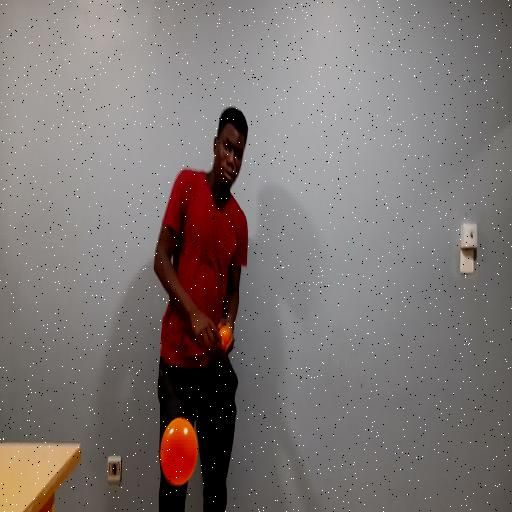plastic-ball: (152, 403, 207, 497)
